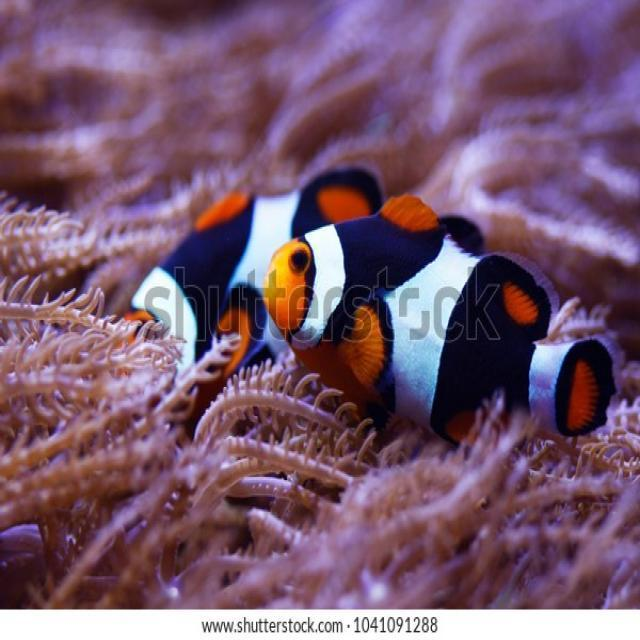ClownFish: (264, 191, 610, 436), (123, 166, 406, 341)
